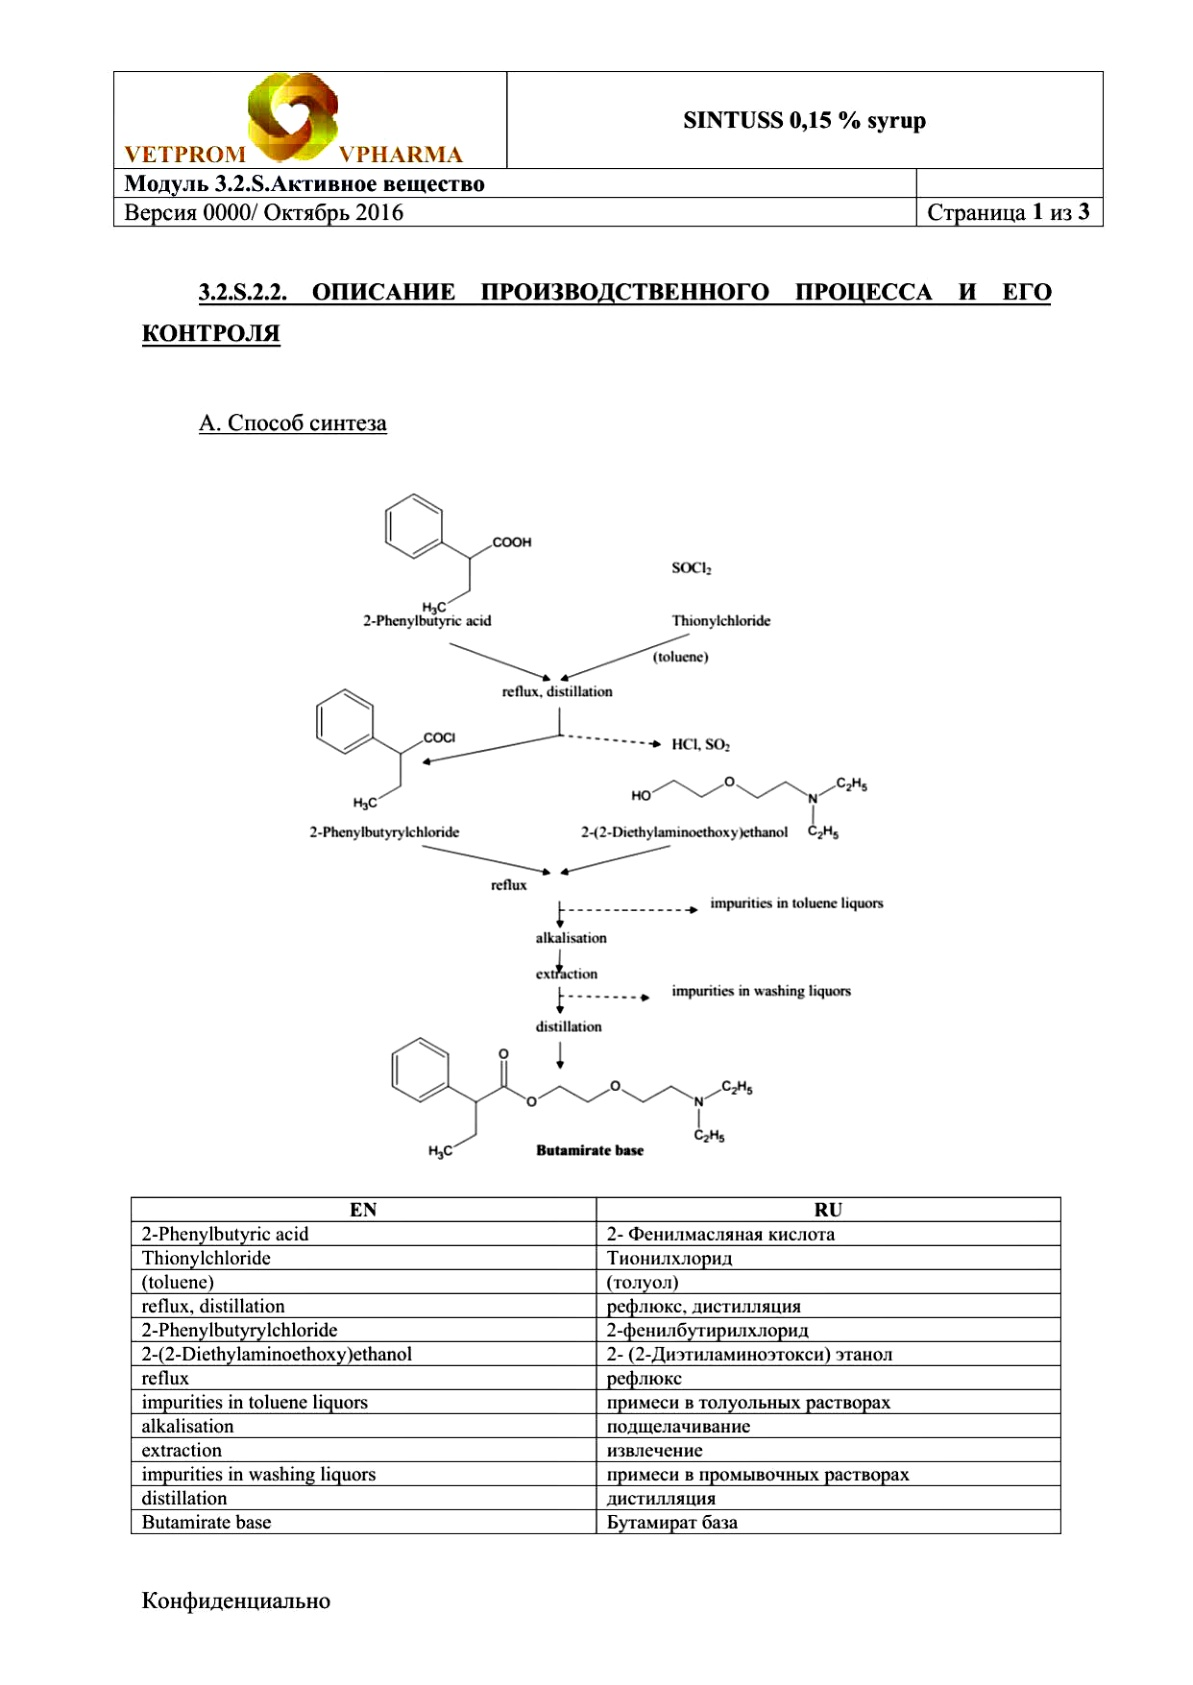full_lined: (129, 1196, 1063, 1535)
merged_cells: (111, 68, 1105, 229)
